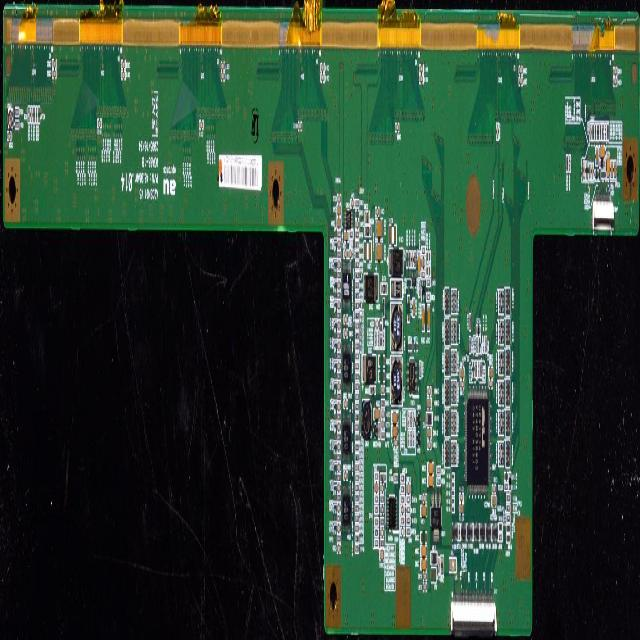Capacitor: (595, 141, 617, 180), (366, 315, 386, 349), (364, 270, 378, 308), (388, 245, 404, 277), (363, 236, 373, 265), (420, 530, 427, 568), (374, 236, 384, 262), (491, 478, 497, 508), (375, 216, 383, 238), (182, 146, 192, 162), (206, 123, 215, 140), (428, 460, 434, 485), (96, 115, 103, 136), (389, 224, 396, 245), (459, 489, 464, 518), (474, 359, 482, 376), (198, 116, 204, 134), (420, 503, 427, 518), (378, 353, 385, 367), (426, 394, 432, 410), (422, 571, 427, 590), (427, 303, 430, 332), (504, 468, 511, 480), (418, 250, 421, 276), (391, 412, 398, 423), (391, 424, 398, 435), (588, 122, 592, 141), (380, 408, 384, 427), (336, 216, 342, 228), (379, 370, 385, 382), (405, 482, 411, 494), (51, 56, 57, 68), (412, 294, 415, 317), (51, 68, 57, 79), (120, 71, 126, 82), (220, 72, 226, 83), (613, 77, 619, 88), (6, 130, 12, 141), (336, 203, 342, 214), (297, 119, 302, 132), (413, 341, 418, 354), (320, 74, 326, 84), (422, 301, 424, 331), (220, 59, 225, 71), (320, 63, 326, 72), (602, 125, 606, 138), (408, 294, 410, 319), (336, 338, 341, 348), (422, 492, 427, 502), (379, 548, 384, 558), (121, 58, 126, 68), (337, 277, 341, 289), (337, 359, 341, 371), (30, 100, 32, 123), (354, 208, 359, 217), (336, 462, 341, 471), (336, 522, 341, 531), (38, 101, 40, 123), (337, 238, 341, 249), (381, 381, 385, 392), (427, 384, 431, 395), (427, 439, 431, 450), (400, 525, 404, 536), (337, 299, 341, 309), (375, 318, 379, 328), (406, 249, 408, 267), (337, 258, 341, 267), (337, 318, 341, 327), (472, 359, 474, 377), (336, 442, 341, 449), (336, 484, 341, 491), (336, 505, 341, 512), (337, 195, 341, 203), (355, 220, 359, 228), (411, 249, 413, 265), (479, 338, 481, 352), (613, 67, 617, 74), (337, 402, 340, 409), (337, 424, 340, 431), (394, 439, 397, 446), (338, 379, 340, 388)
Resistor Network: (354, 430, 358, 541), (408, 411, 415, 446), (86, 141, 98, 160), (592, 122, 602, 141), (452, 469, 456, 513), (506, 494, 510, 538), (7, 103, 14, 127), (355, 228, 359, 268), (355, 308, 359, 342), (113, 122, 122, 137), (566, 149, 571, 173), (355, 277, 359, 304), (498, 516, 502, 541), (380, 281, 388, 292), (364, 210, 370, 223), (468, 333, 472, 352), (483, 334, 487, 352), (504, 481, 511, 491), (380, 428, 385, 440), (14, 105, 19, 116), (476, 322, 481, 333), (407, 339, 412, 350), (437, 473, 441, 486), (418, 359, 421, 376), (426, 278, 431, 288), (336, 492, 341, 502), (336, 542, 341, 552), (381, 396, 385, 408), (437, 462, 441, 474), (468, 312, 471, 327), (32, 100, 34, 122), (30, 101, 32, 123), (476, 332, 478, 354), (337, 391, 341, 402), (400, 483, 404, 494), (406, 524, 410, 535), (414, 248, 416, 268), (426, 292, 430, 302), (406, 505, 411, 513), (400, 514, 404, 524), (28, 102, 30, 121), (35, 102, 37, 121), (418, 278, 420, 296), (400, 494, 404, 503), (406, 495, 410, 504), (336, 231, 341, 238), (336, 312, 341, 319), (336, 332, 341, 339), (607, 123, 609, 140), (378, 422, 380, 439), (15, 120, 19, 128), (408, 249, 410, 265), (337, 291, 341, 299), (337, 372, 341, 380), (337, 249, 341, 256), (394, 476, 398, 483), (336, 353, 341, 358), (337, 271, 341, 277), (337, 413, 340, 421), (337, 473, 340, 481), (337, 516, 341, 522), (337, 535, 341, 541), (337, 433, 340, 440), (337, 453, 340, 460)
